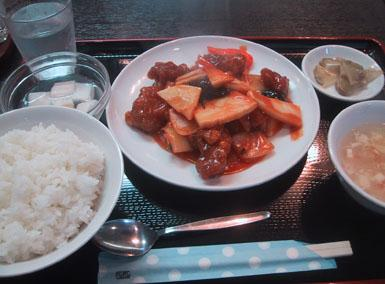plate: (0, 106, 123, 277)
rice: (0, 124, 104, 263)
